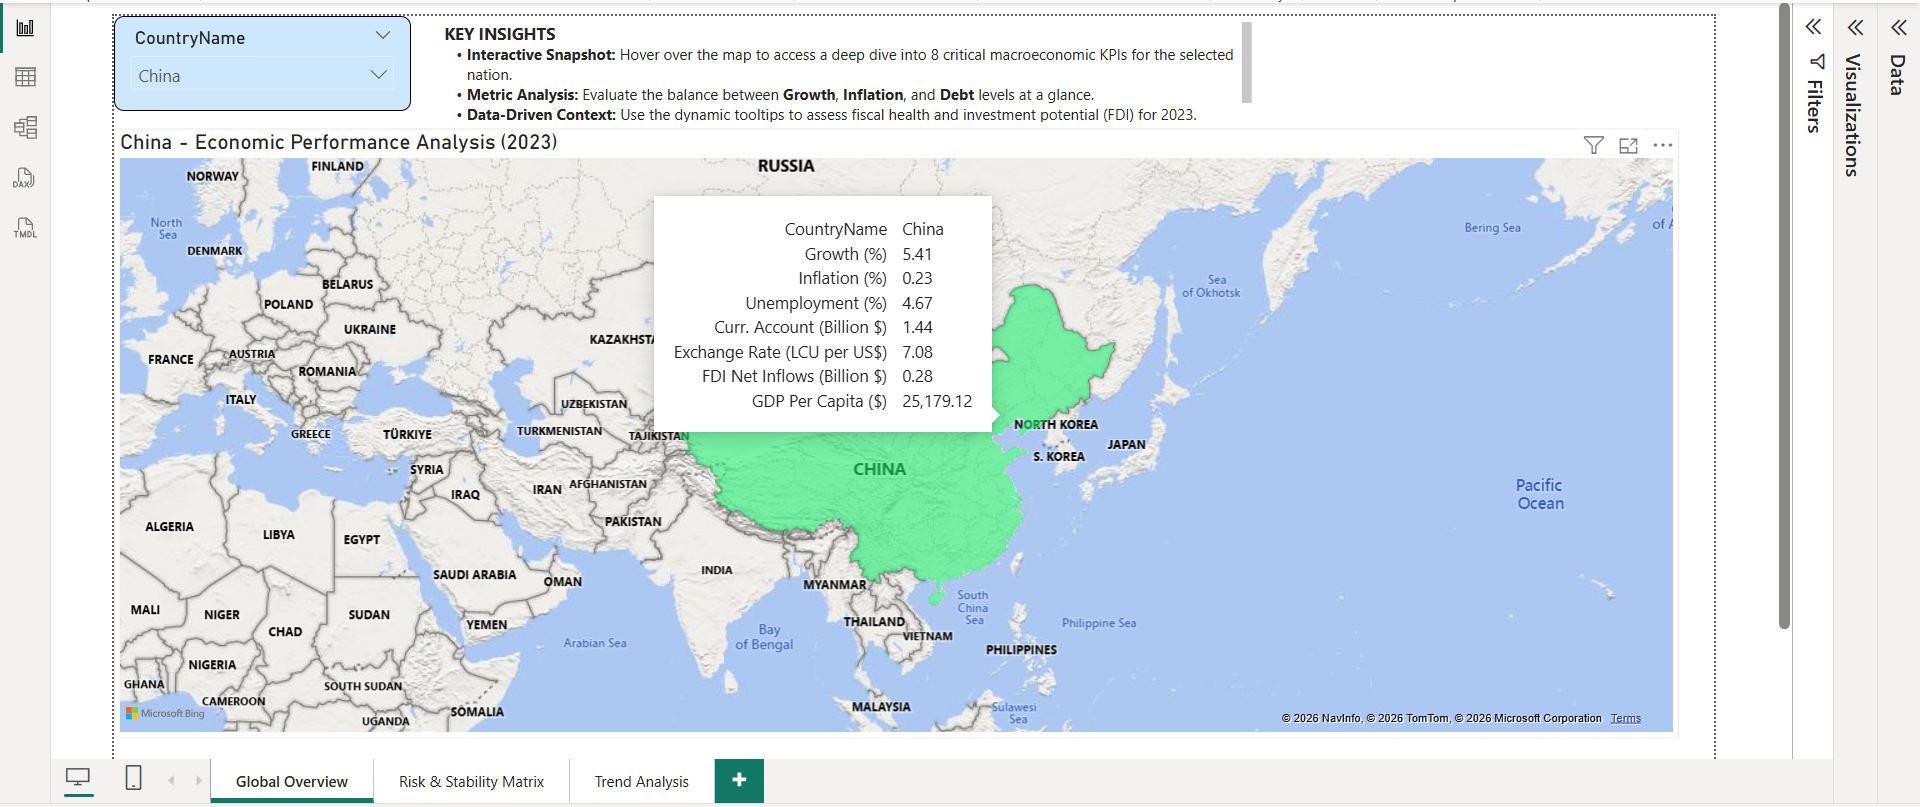

The page's visual inventory and layout, read from the dashboard file:
{"tool":"powerbi","page":{"name":"Global Overview","canvas":[1280,720],"ordinal":0},"visuals":[{"type":"filledMap","fields":{"Category":["v_MasterScorecard2023.CountryName"]},"box":[0,90,882.2,487.8],"z":0},{"type":"slicer","fields":{"Values":["v_MasterScorecard2023.CountryName"]},"box":[0,0,237.7,76],"z":1000},{"type":"textbox","box":[259,0,656,90],"z":2000}]}

Visuals, with their boxes on the page's 1280x720 design canvas (x1, y1, x2, y2). These are canvas units, not pixel positions in the 1920x807 screenshot, which may show the page scaled, cropped or inside an application window:
filledMap - v_MasterScorecard2023.CountryName: bbox=[0, 90, 882, 578]
slicer - v_MasterScorecard2023.CountryName: bbox=[0, 0, 238, 76]
textbox: bbox=[259, 0, 915, 90]
